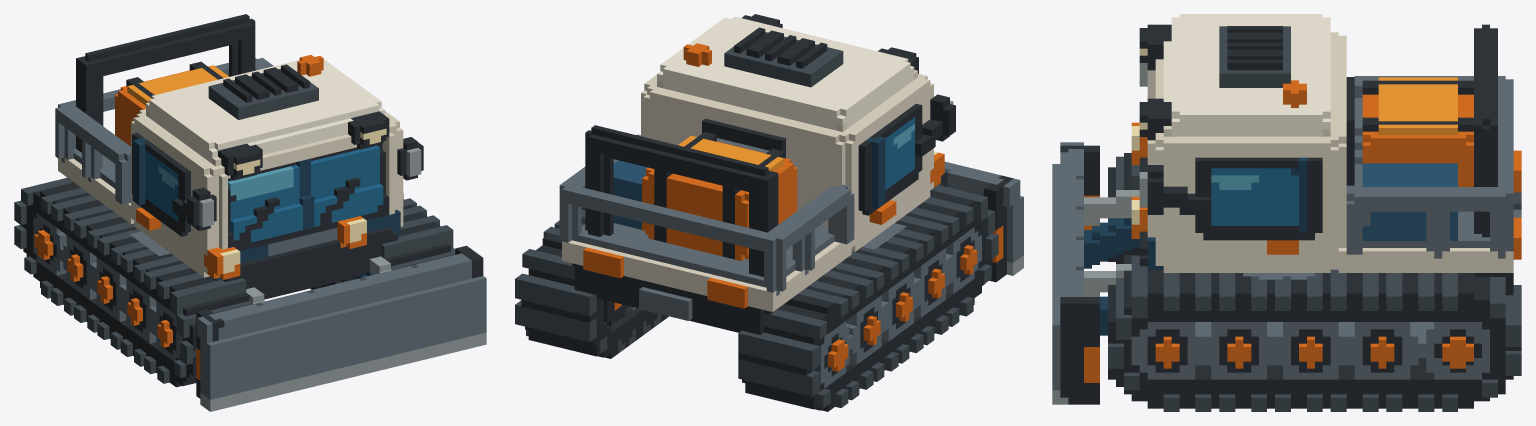
The model's file is snowcat.glb.
3 renders of one model, left to right at view 1: azimuth 30°, elevation 25°; view 2: azimuth 150°, elevation 25°; view 3: azimuth 270°, elevation 25°, orthographic. The views are drawn at different scales.
Parts seen in each view (by area): view 1: snowcat; view 2: snowcat; view 3: snowcat.
Boxes of the visible parts, x1,y1,x2,y2 form: snowcat: (14, 14, 486, 411); snowcat: (515, 14, 1023, 411); snowcat: (1052, 14, 1521, 411).
Size of the model in its own units: 4.32 by 3.6 by 5.31.
